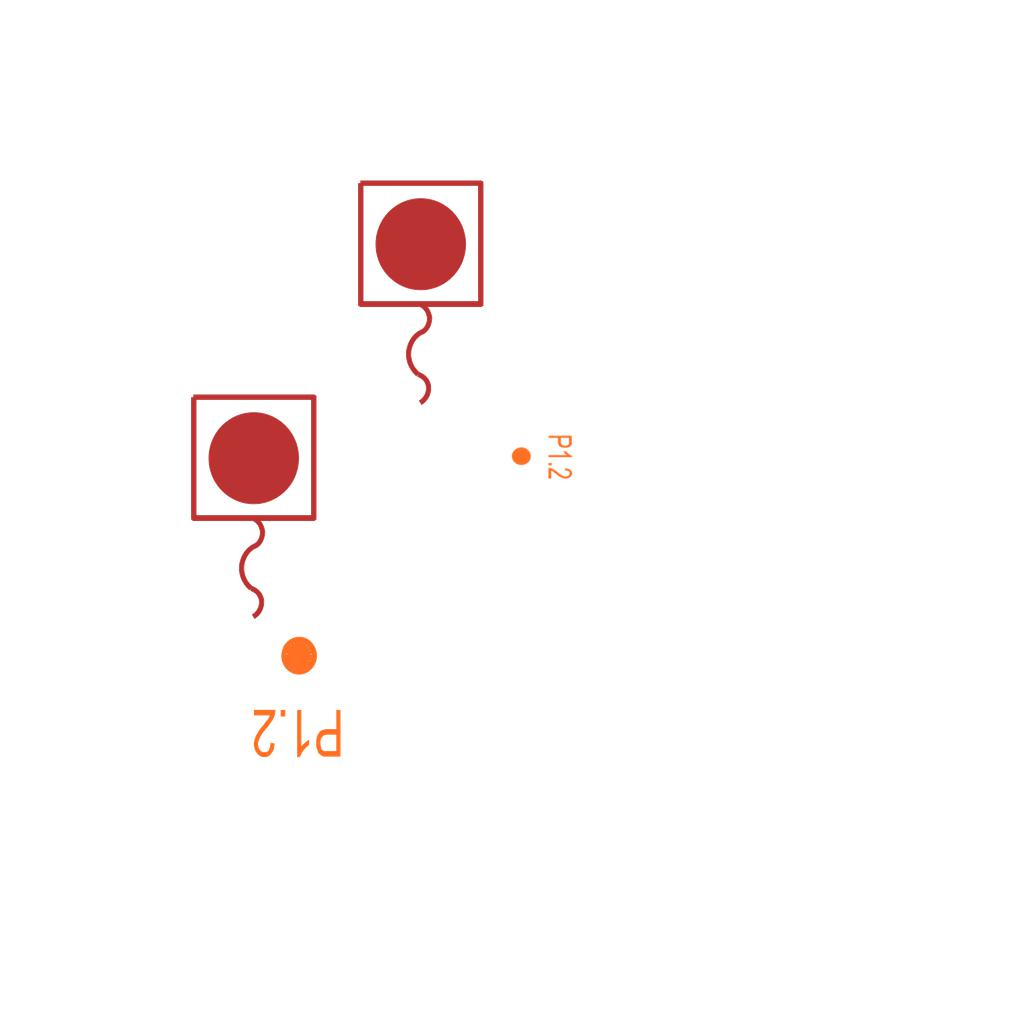Downlight_LED_Einbauleuchten_Flur: (251, 633, 344, 761), (510, 434, 574, 480)
Zugtaster: (180, 386, 324, 630), (347, 172, 491, 416)
